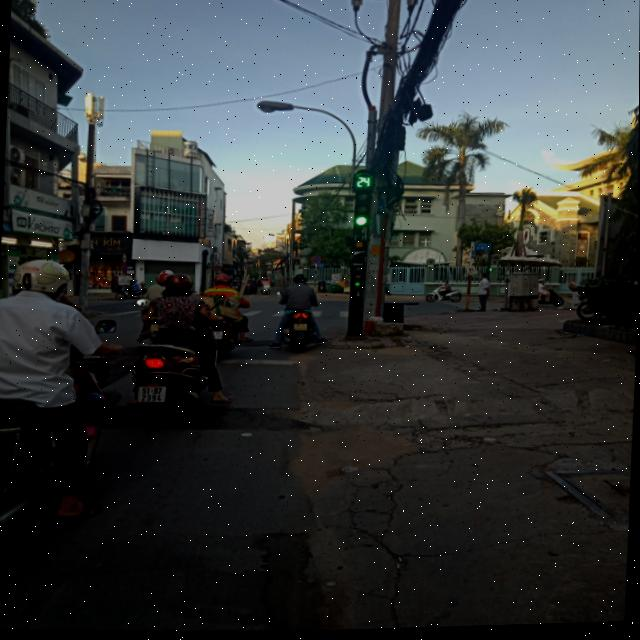Green: (343, 190, 379, 235), (351, 262, 365, 290)
